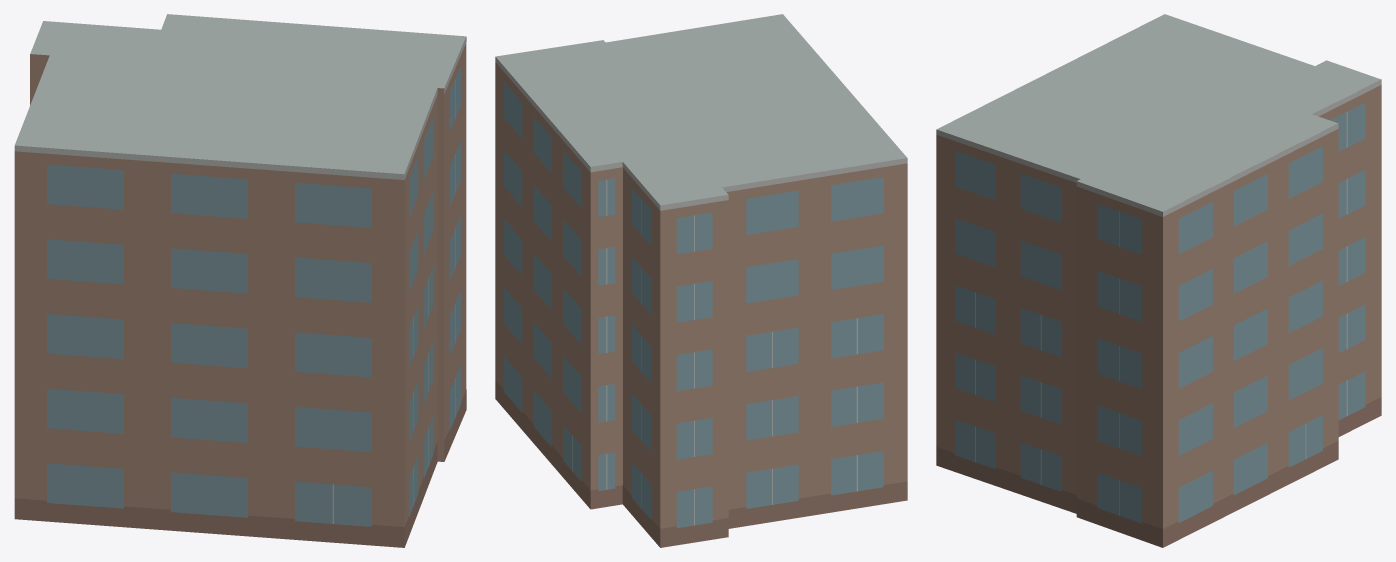
Rendered from survey-upis-32775847.glb.
3 renders of one model, left to right at view 1: azimuth 30°, elevation 25°; view 2: azimuth 150°, elevation 25°; view 3: azimuth 270°, elevation 25°, orthographic. The views are drawn at different scales.
Parts seen in each view (by area): view 1: survey-upis-32775847.tmp; view 2: survey-upis-32775847.tmp; view 3: survey-upis-32775847.tmp.
Boxes of the visible parts, bbox=[...] form: survey-upis-32775847.tmp: bbox=[14, 14, 466, 547]; survey-upis-32775847.tmp: bbox=[495, 14, 907, 547]; survey-upis-32775847.tmp: bbox=[936, 14, 1381, 547].
Bounding box in the file's own units: 19.83 × 15.7 × 18.86.
